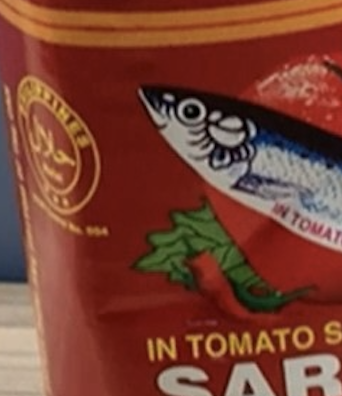halal: (18, 112, 75, 178)
